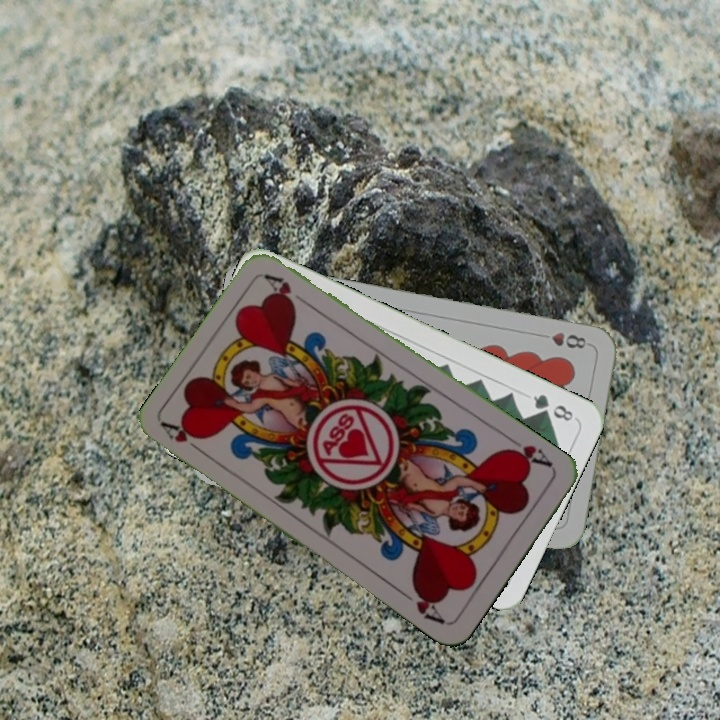G8: (529, 390, 576, 424)
H8: (547, 328, 589, 352)
HA: (159, 418, 211, 460), (499, 433, 556, 470)
